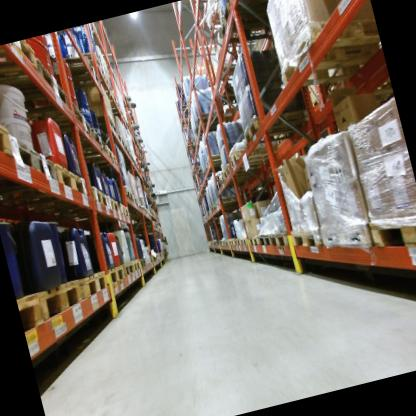pallet: (264, 8, 389, 103), (0, 154, 94, 227), (0, 52, 72, 132), (211, 0, 301, 56), (314, 204, 382, 267), (37, 272, 95, 334), (14, 127, 64, 192), (239, 108, 316, 150), (364, 207, 416, 266), (33, 99, 95, 144), (48, 120, 111, 163), (116, 199, 149, 272), (70, 265, 118, 314), (15, 282, 50, 347), (223, 137, 279, 177), (0, 38, 43, 90), (60, 46, 104, 94), (72, 141, 123, 176), (0, 89, 20, 162), (288, 220, 327, 256), (221, 156, 266, 185), (96, 262, 128, 297), (88, 180, 115, 216), (194, 116, 233, 140), (194, 107, 231, 132), (214, 172, 248, 198), (215, 188, 248, 212), (215, 60, 242, 87), (267, 224, 294, 249), (210, 89, 239, 110), (204, 148, 230, 170), (174, 98, 197, 121), (92, 68, 113, 93), (119, 259, 139, 284), (105, 186, 122, 215), (102, 113, 119, 137), (101, 90, 120, 111), (257, 228, 273, 252), (175, 112, 194, 130), (119, 182, 135, 203), (248, 231, 263, 250), (129, 253, 141, 273), (239, 232, 253, 248), (120, 141, 132, 158), (112, 131, 125, 146), (183, 137, 196, 149), (227, 236, 238, 250), (184, 93, 195, 106), (233, 236, 243, 250), (133, 196, 142, 210), (218, 173, 227, 186), (221, 239, 227, 248), (225, 239, 231, 247)
